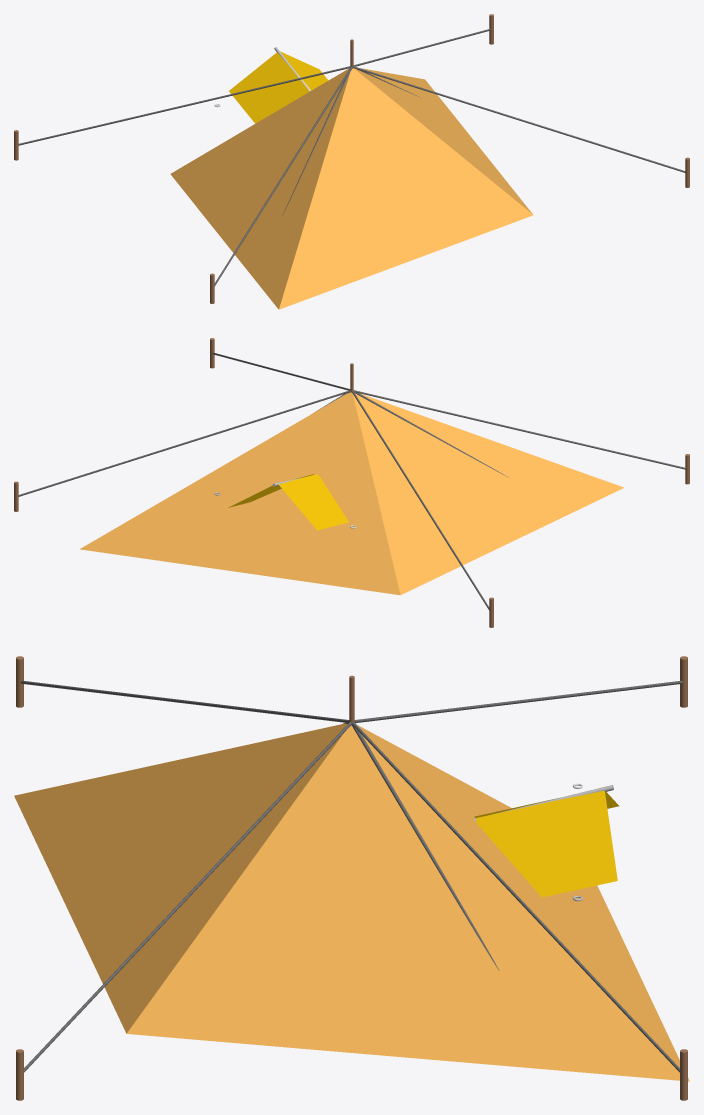
The model's file is tent.glb.
3 renders of one model, top to bottom at view 1: azimuth 30°, elevation 25°; view 2: azimuth 150°, elevation 25°; view 3: azimuth 270°, elevation 25°, orthographic. The views are drawn at different scales.
Visible parts, largest first — view 1: TentMain, LeftEntranceFlap, GuideRope_2, GuideRope_3, RightEntranceFlap, GuideRope_1; view 2: TentMain, LeftEntranceFlap, GuideRope_4, GuideRope_1, GuideRope_3; view 3: TentMain, RightEntranceFlap, GuideRope_2, GuideRope_4, GuideRope_3, GuideRope_1, Rope_4.
Boxes of the visible parts, x1=… form: TentMain: x1=170, y1=68, x2=533, y2=309; LeftEntranceFlap: x1=229, y1=52, x2=309, y2=123; GuideRope_2: x1=353, y1=66, x2=685, y2=172; GuideRope_3: x1=18, y1=66, x2=350, y2=145; RightEntranceFlap: x1=280, y1=51, x2=328, y2=90; GuideRope_1: x1=214, y1=67, x2=351, y2=286; TentMain: x1=80, y1=392, x2=623, y2=595; LeftEntranceFlap: x1=278, y1=474, x2=348, y2=530; GuideRope_4: x1=18, y1=390, x2=350, y2=496; GuideRope_1: x1=353, y1=390, x2=685, y2=469; GuideRope_3: x1=351, y1=390, x2=489, y2=610; TentMain: x1=14, y1=723, x2=689, y2=1081; RightEntranceFlap: x1=476, y1=790, x2=617, y2=897; GuideRope_2: x1=24, y1=722, x2=351, y2=1072; GuideRope_4: x1=352, y1=722, x2=679, y2=1072; GuideRope_3: x1=354, y1=680, x2=683, y2=722; GuideRope_1: x1=20, y1=680, x2=349, y2=722; Rope_4: x1=351, y1=723, x2=499, y2=970.
Size of the model in its own units: 7.06 by 2.17 by 5.09.
